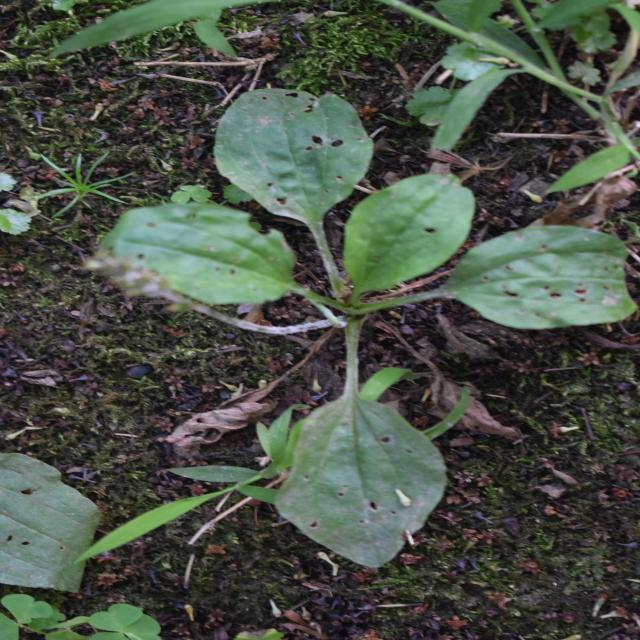plantain: (142, 125, 530, 577)
